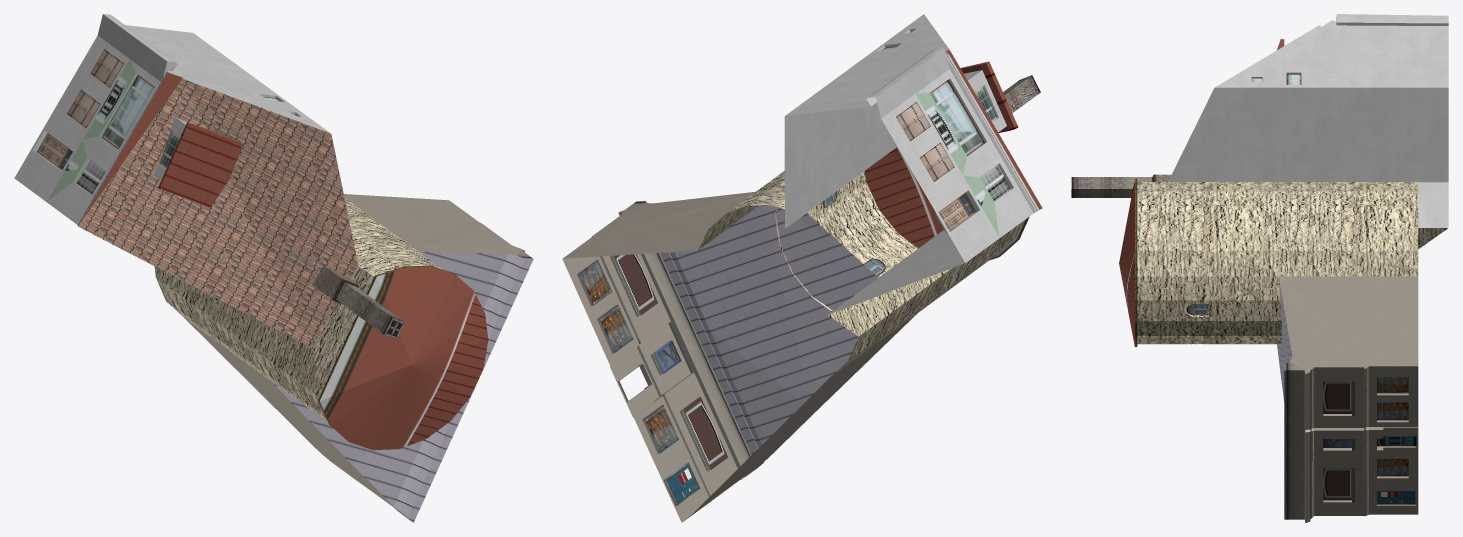
The model's file is Parnu2.obj.
3 renders of one model, left to right at view 1: azimuth 30°, elevation 25°; view 2: azimuth 150°, elevation 25°; view 3: azimuth 270°, elevation 25°, orthographic. The views are drawn at different scales.
Parts seen in each view (by area): view 1: Parnu2; view 2: Parnu2; view 3: Parnu2.
Boxes of the visible parts, box(x1,y1,x2,y2) form: Parnu2: box(14, 14, 533, 522); Parnu2: box(562, 14, 1042, 522); Parnu2: box(1071, 14, 1448, 522).
Size of the model in its own units: 25.08 by 27.31 by 22.33.
